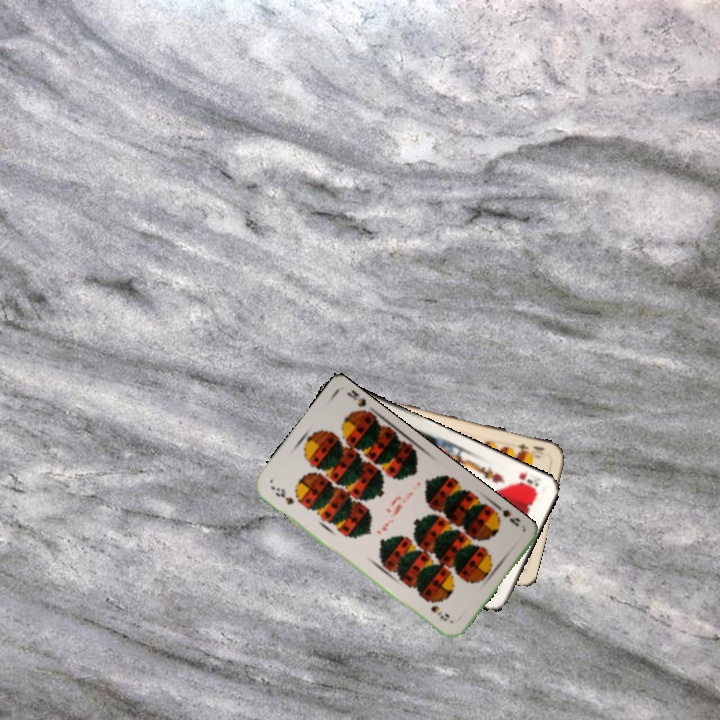E10: (514, 439, 547, 461)
HK: (511, 469, 541, 495)
S9: (487, 500, 523, 529), (271, 483, 297, 507)
